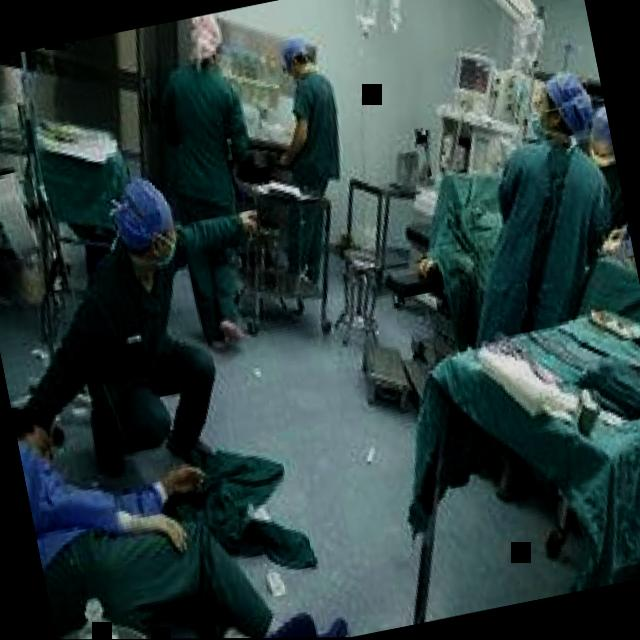Fall-Detected: (6, 323, 368, 640)
